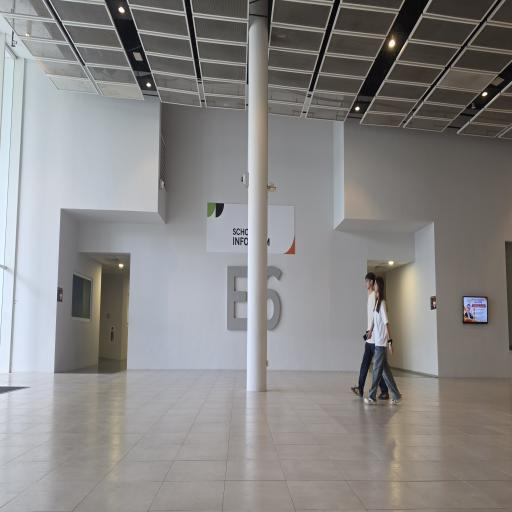person_left: (372, 271, 404, 409), (357, 262, 383, 410)
